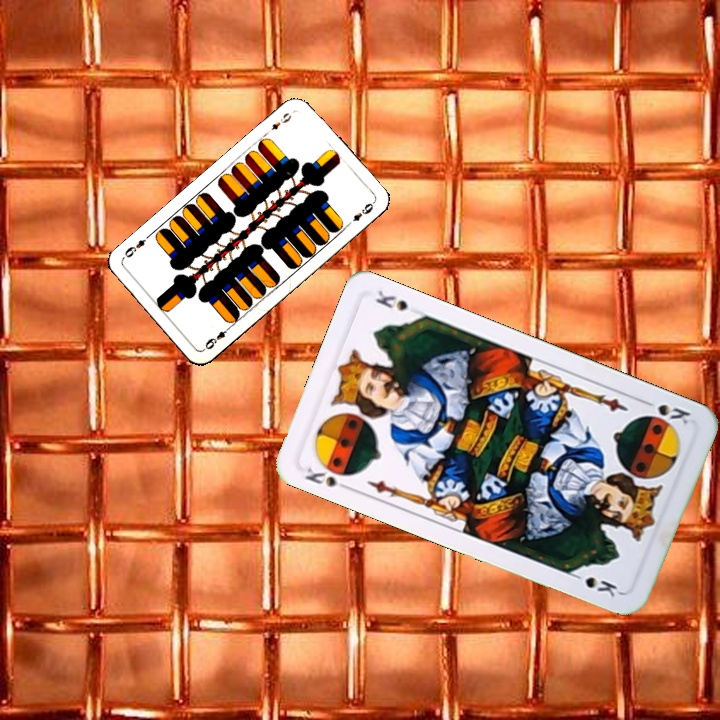E9: (200, 322, 233, 353), (262, 109, 294, 137)
SK: (636, 395, 693, 429), (300, 462, 355, 494)
